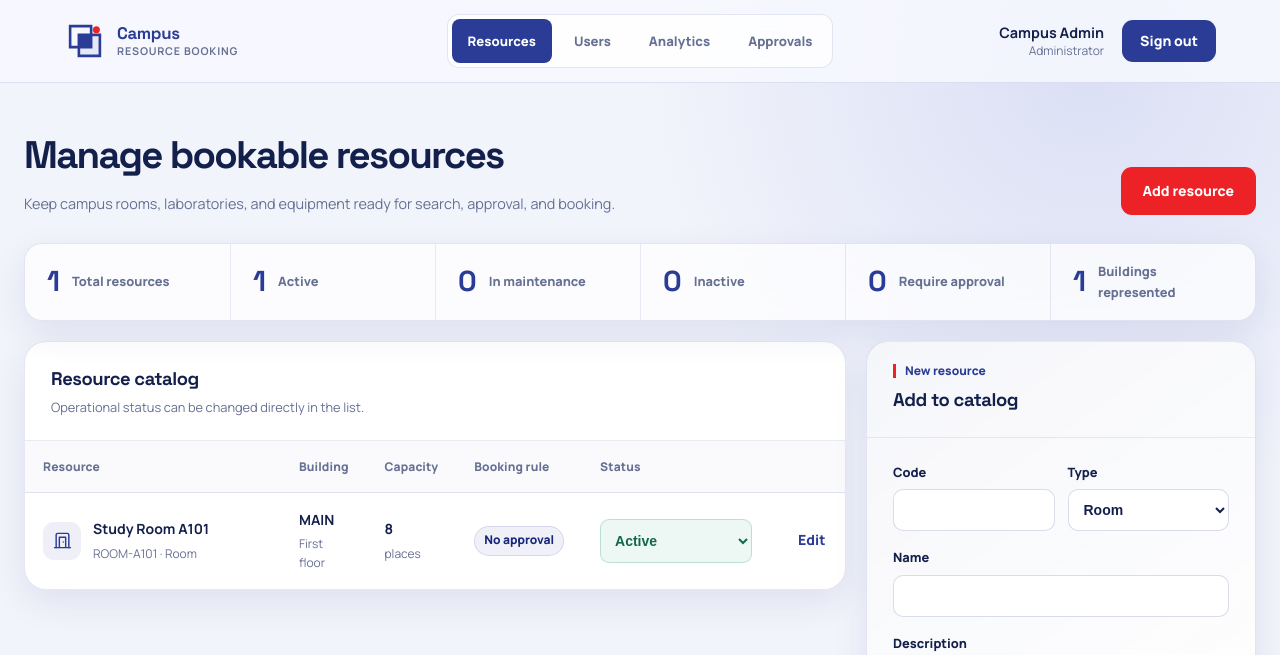
Test: AdminResourceManager › offers sign-in recovery when the admin session expires
Select "Maintenance" in the dropdown named "Status for Study Room A101" at (676, 541), box [600,519,752,563]
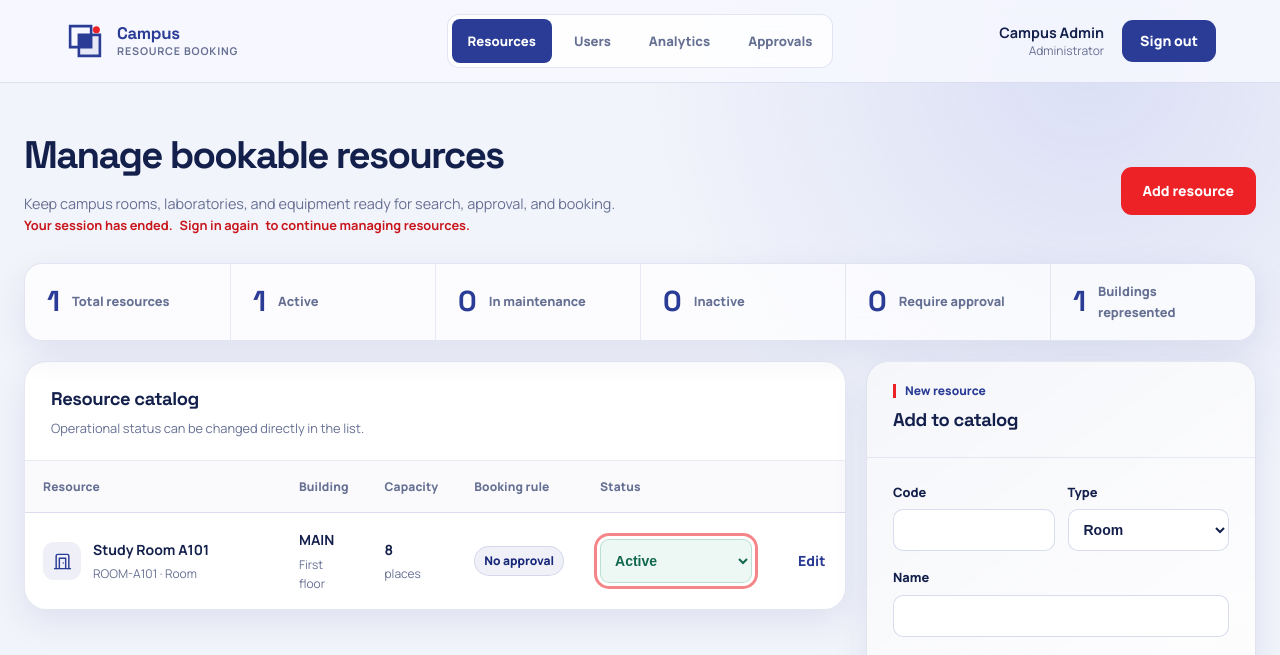
Check: the text "Your session has ended. Sign in again to continue managing resources." is shown, box [24,216,470,234]
